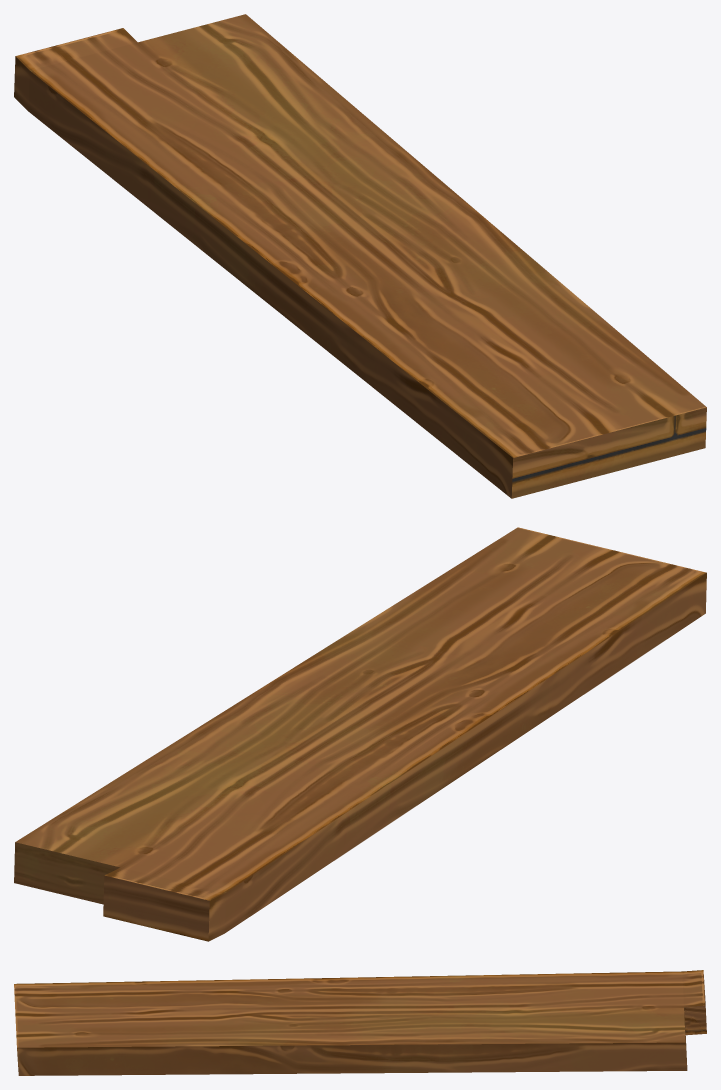
The picture shows the model from 3 angles, top to bottom: view 1: azimuth 30°, elevation 25°; view 2: azimuth 150°, elevation 25°; view 3: azimuth 270°, elevation 25°; orthographic projection. The views are drawn at different scales.
Parts seen in each view (by area): view 1: Cube.488; view 2: Cube.488; view 3: Cube.488.
Boxes of the visible parts, <box> form: Cube.488: <box>14,14,706,498</box>; Cube.488: <box>14,527,706,941</box>; Cube.488: <box>14,970,706,1075</box>.
Bounding box in the file's own units: 61.22 × 17.55 × 237.
Materials: 1 (1 with a texture image).
